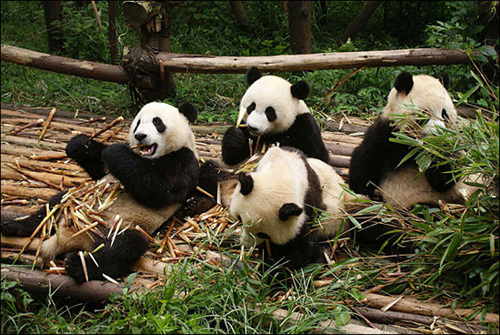panda: (58, 88, 208, 312), (357, 70, 495, 254), (220, 135, 362, 274), (224, 71, 324, 165)
